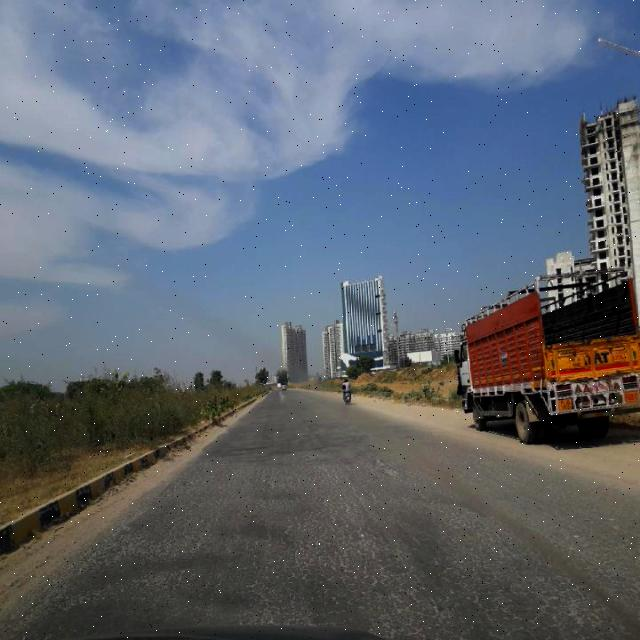D20: (82, 460, 640, 626)
